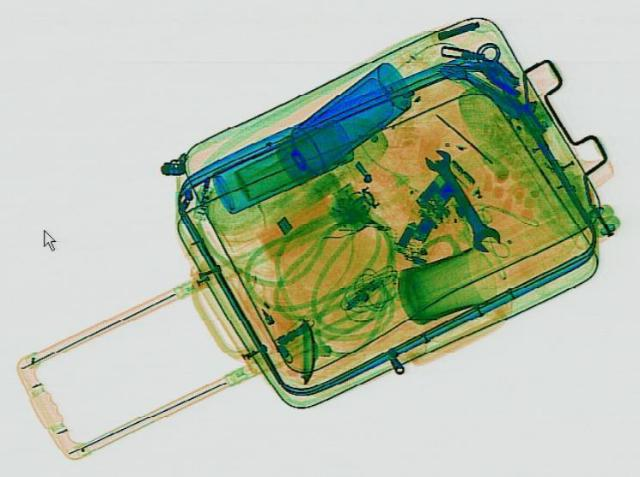Wrench: (417, 146, 507, 255)
